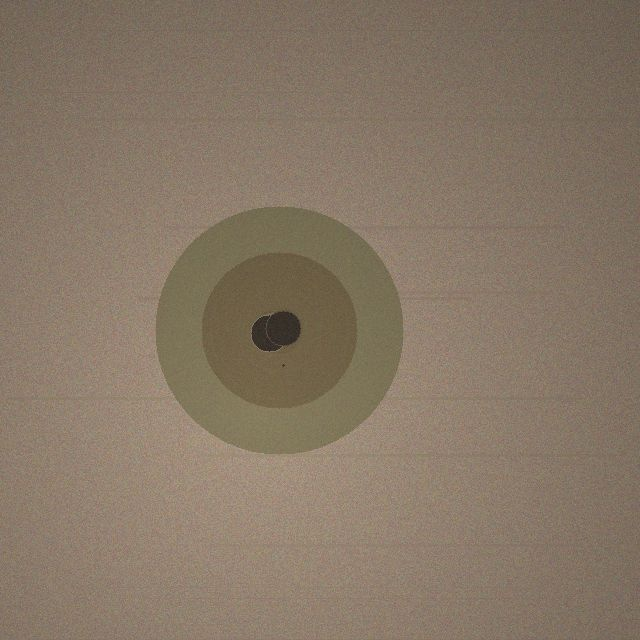shrinkage: (155, 206, 403, 454)
